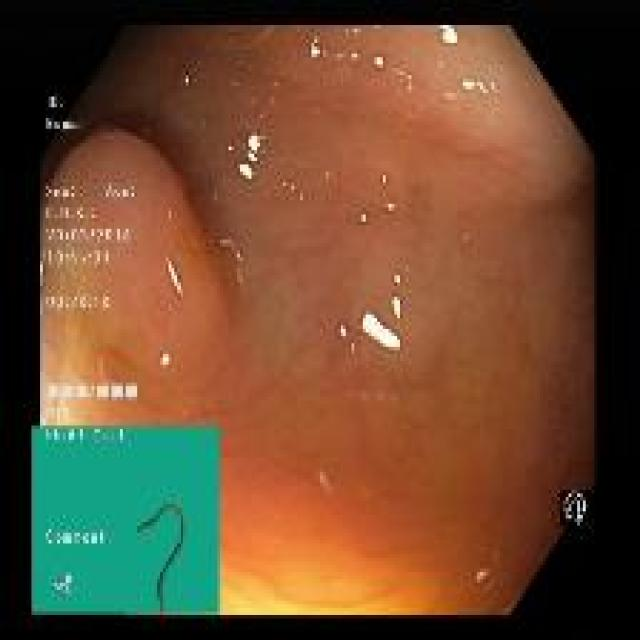Polyps: (42, 127, 231, 425)
